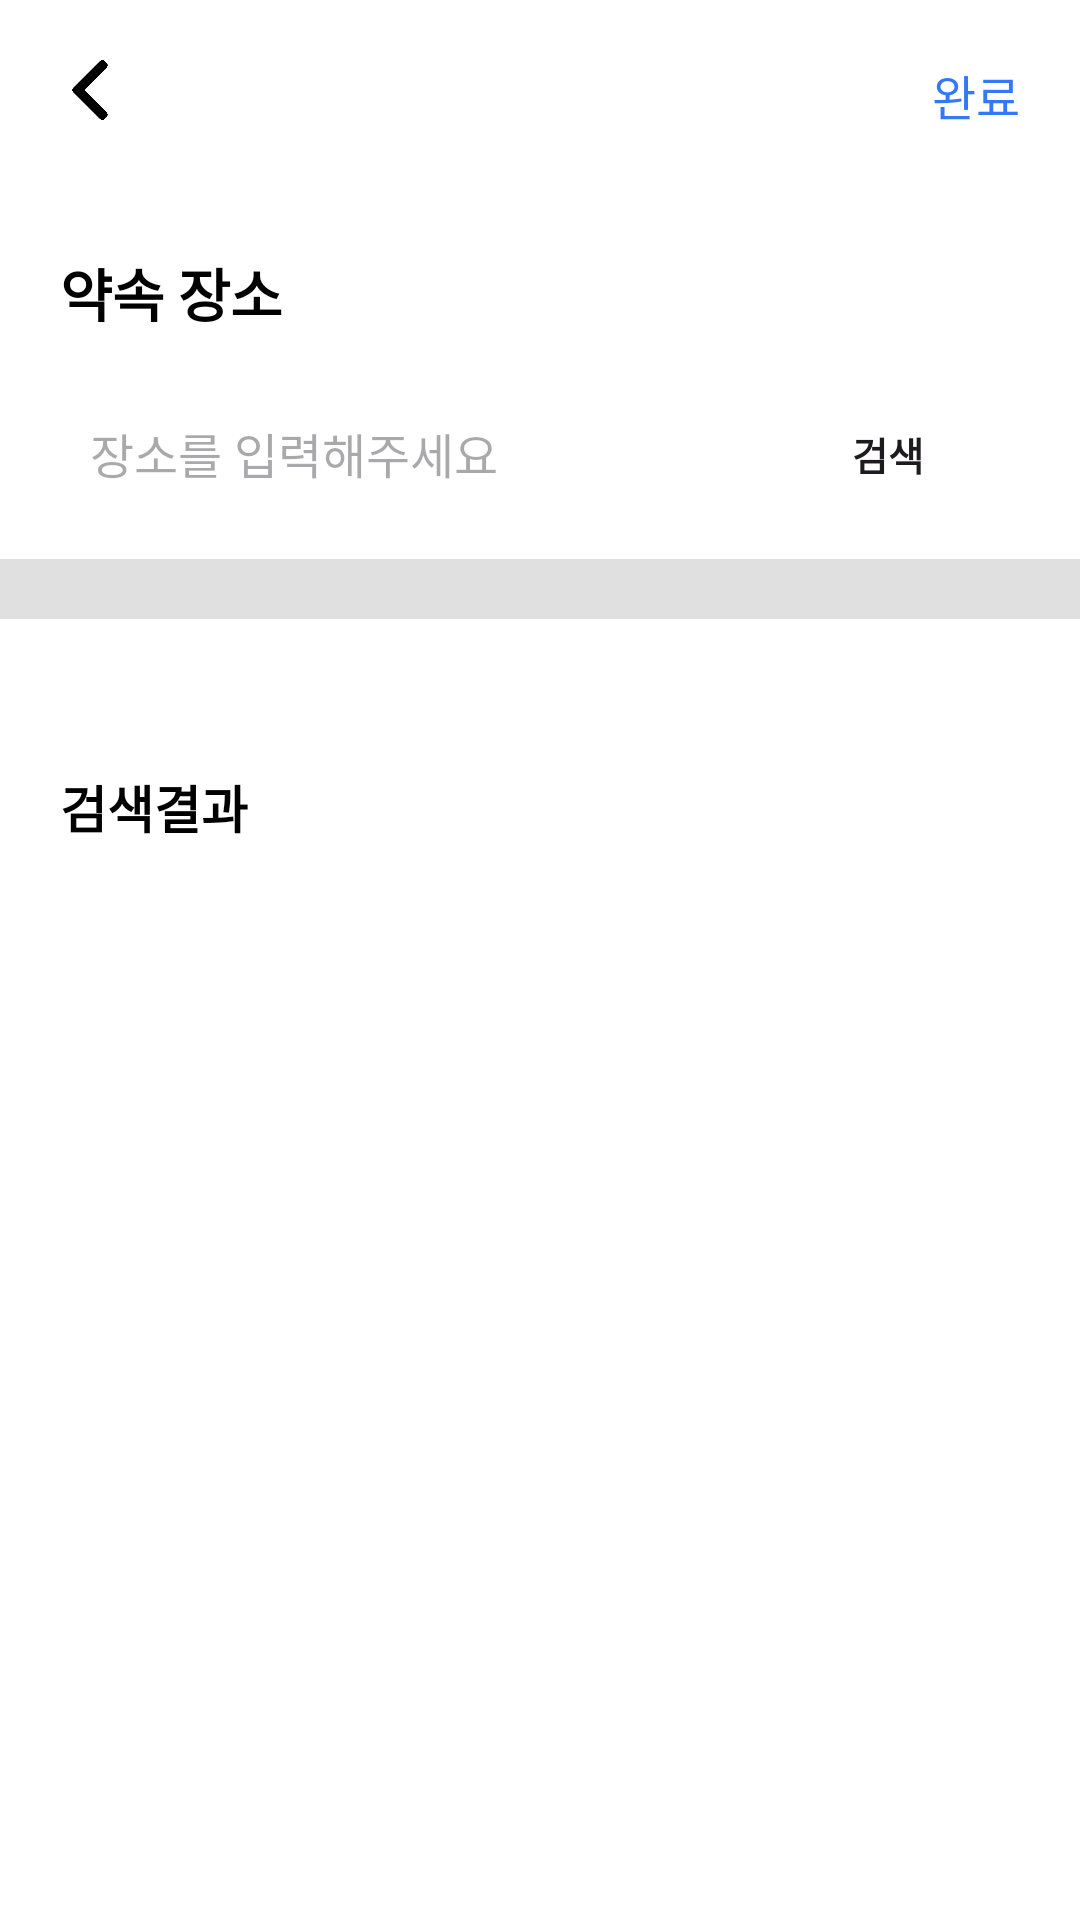

Point at icon controls on the screen. Image size 1080w x 1920h, points as (x=x, y=y).
left arrow: (x=90, y=90)
